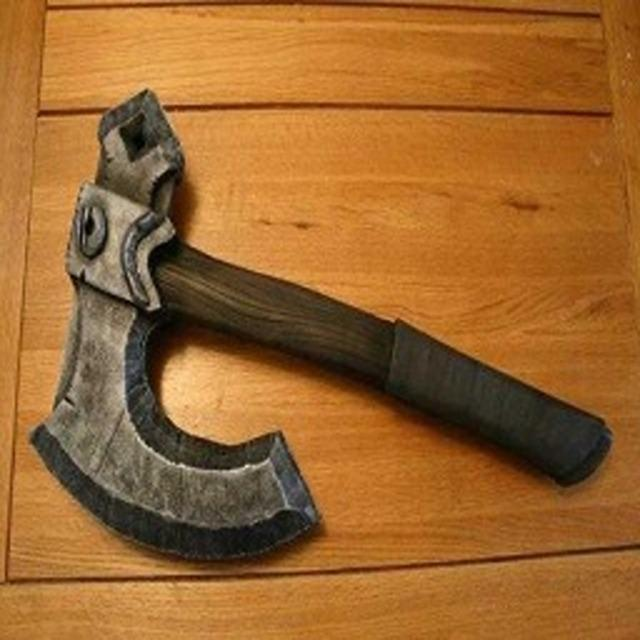ax: (19, 80, 622, 577)
